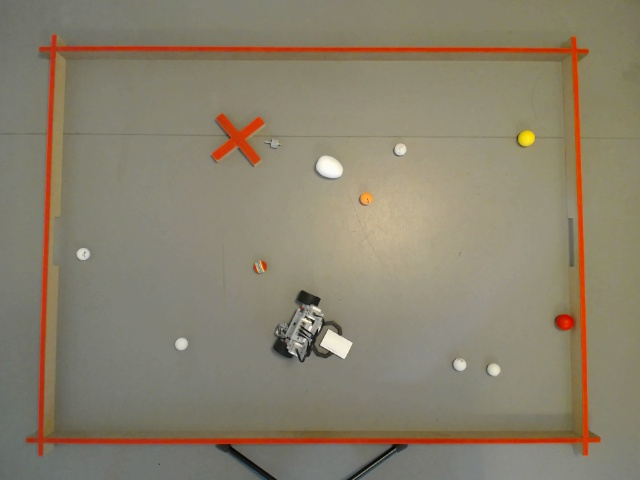big_goal: (40, 213, 60, 266), (564, 215, 584, 267)
cross: (211, 111, 266, 165)
egg: (316, 156, 341, 177)
orange: (361, 194, 371, 203)
robot: (268, 291, 344, 362)
wall: (561, 36, 590, 453), (37, 33, 64, 453), (24, 428, 601, 446), (38, 45, 590, 63)
white: (77, 245, 88, 258), (176, 338, 186, 348), (490, 363, 498, 374), (456, 359, 464, 369), (397, 146, 407, 152)
